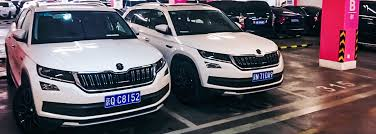number_plate: (100, 91, 152, 110), (249, 70, 280, 83)
